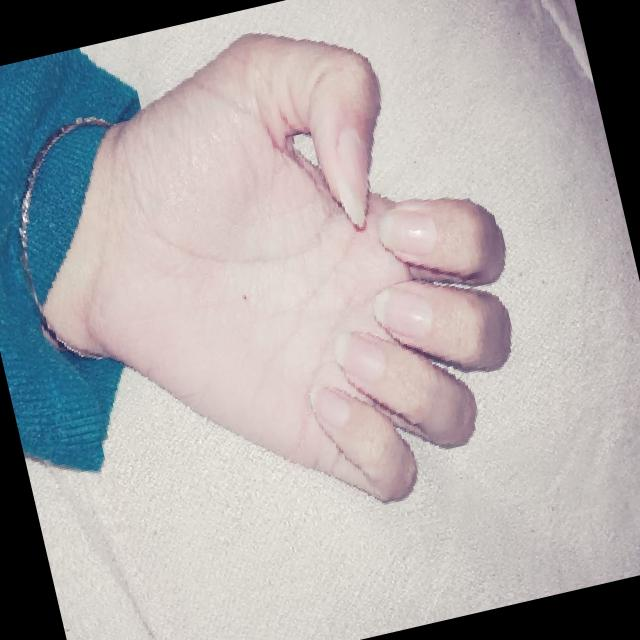Nail: (334, 129, 367, 220), (373, 287, 432, 337), (332, 330, 385, 384), (378, 208, 436, 257), (308, 385, 348, 425)
